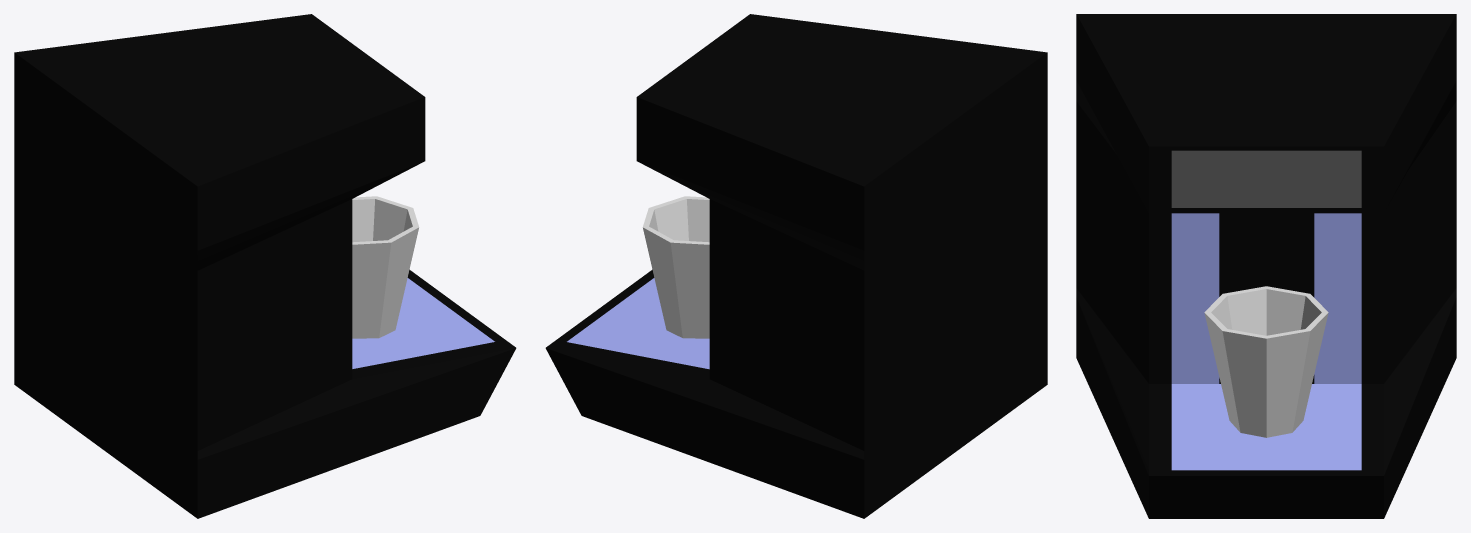
Rendered from coffee_automat.fbx.
3 views of the same model, side by side, from view 1: azimuth 30°, elevation 25°; view 2: azimuth 150°, elevation 25°; view 3: azimuth 270°, elevation 25° (orthographic). The views are drawn at different scales.
Parts seen in each view (by area): view 1: Cube, Cylinder; view 2: Cube, Cylinder; view 3: Cube, Cylinder.
Boxes of the visible parts, <box> form: Cube: <box>14,14,516,518</box>; Cylinder: <box>352,196,419,338</box>; Cube: <box>545,14,1047,518</box>; Cylinder: <box>642,196,709,338</box>; Cube: <box>1076,14,1456,518</box>; Cylinder: <box>1204,286,1328,437</box>.
Size of the model in its own units: 223 by 200 by 200.
